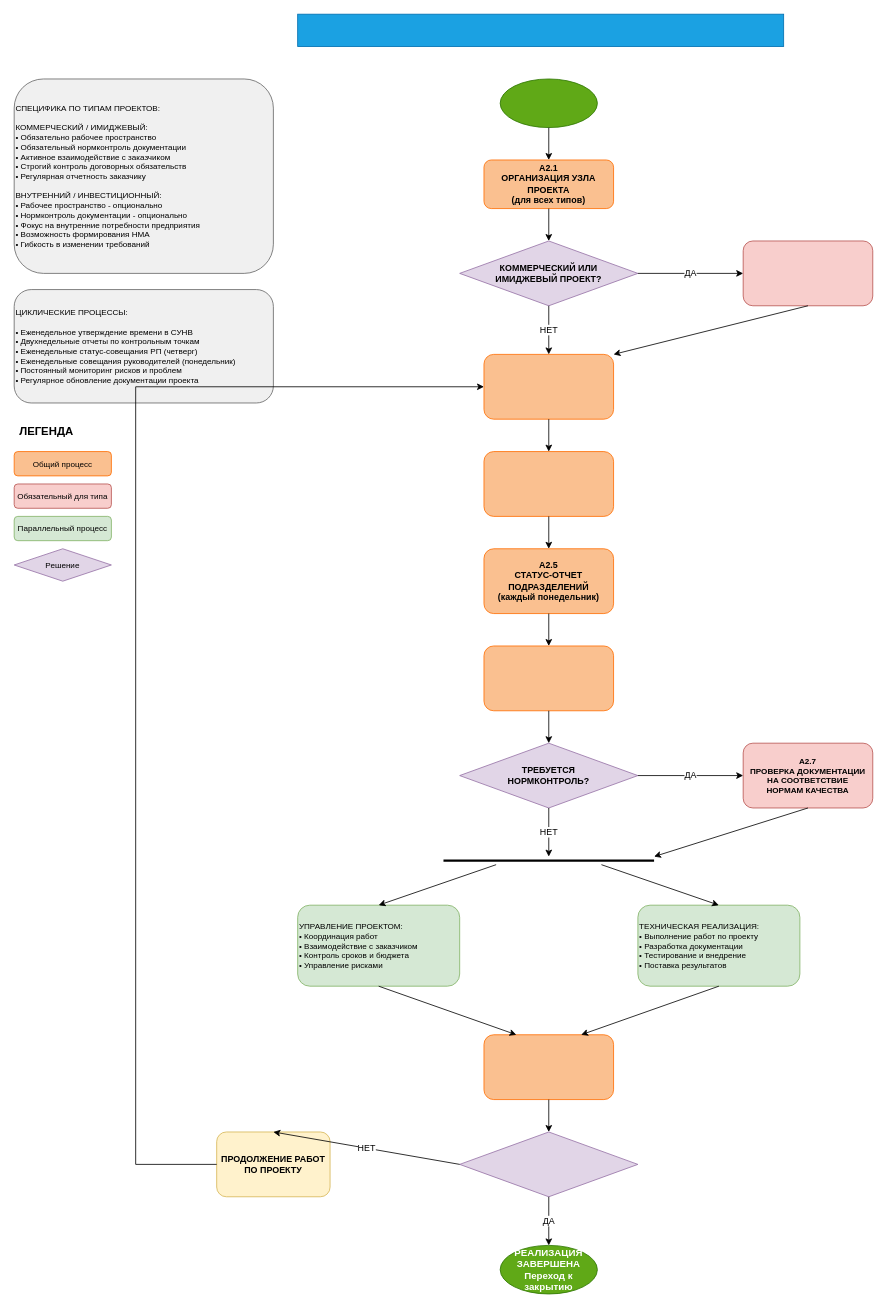
Image size: 887x1308. Some labels were removed from this diagram. The centre of each missing label's shape, as x and y in pixels:
"А2.2 ОРГАНИЗАЦИЯ РАБОЧЕГО ПРОСТРАНСТВА ПРОЕКТА (ОБЯЗАТЕЛЬНО)" goes at point 807,273.
"А2.3 ФОРМИРОВАНИЕ ОТЧЕТА ПО КОНТРОЛЬНЫМ ТОЧКАМ (каждые 2 недели)" goes at point 548,386.
"А2.4 СТАТУС-ОТЧЕТ И ДОКЛАД НА СОВЕЩАНИИ РП (каждый четверг)" goes at point 548,483.
"А2.6 УЧЕТ И КОНТРОЛЬ ВРЕМЕНИ В СУНВ (постоянно)" goes at point 548,678.
"А2.8 УТВЕРЖДЕНИЕ ДОКУМЕНТАЦИИ ПО ЗАВЕРШЕНИЮ ЭТАПА (при наличии этапности)" goes at point 548,1067.
"ВСЕ РАБОТЫ ПО ПРОЕКТУ ЗАВЕРШЕНЫ?" goes at point 548,1164.
"НАЧАЛО РЕАЛИЗАЦИИ Проект открыт" goes at point 548,103.
"ПРОЦЕСС А2 - РЕАЛИЗАЦИЯ ПРОЕКТА" goes at point 540,30.
